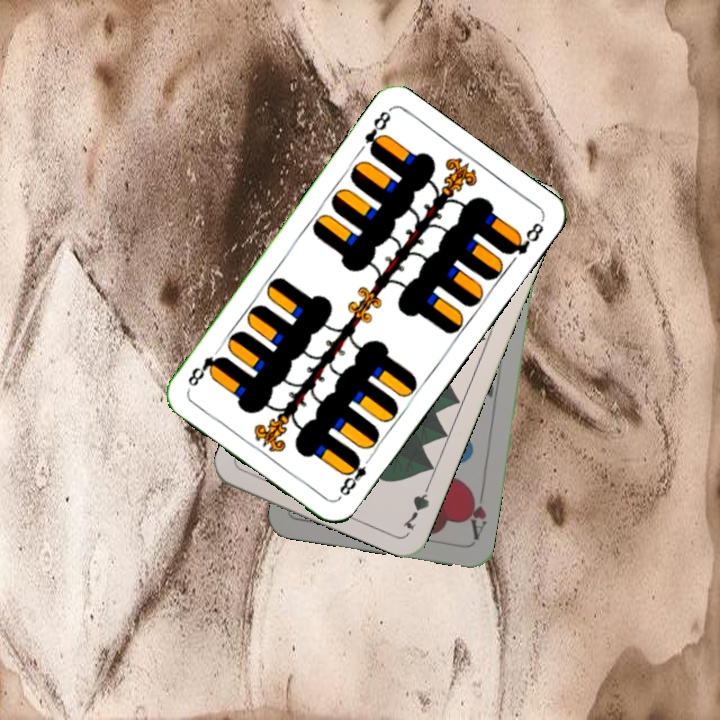E8: (334, 451, 375, 502), (360, 106, 394, 158)
G7: (398, 477, 434, 533)
HA: (462, 484, 490, 543)
